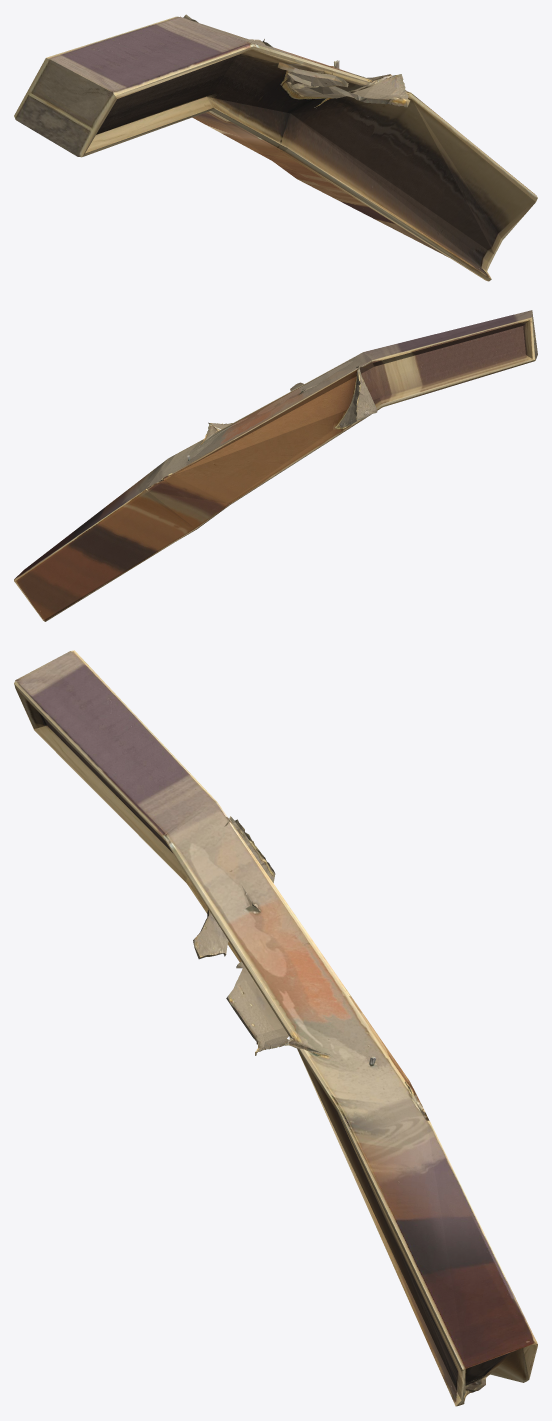
The model's file is rusted_beam.glb.
3 views of the same model, one above another, from view 1: azimuth 30°, elevation 25°; view 2: azimuth 150°, elevation 25°; view 3: azimuth 270°, elevation 25° (orthographic). The views are drawn at different scales.
Visible parts, largest first — view 1: tripo_node_352454fe-ab65-4cf8-af3b-0d2cd6c91ce2; view 2: tripo_node_352454fe-ab65-4cf8-af3b-0d2cd6c91ce2; view 3: tripo_node_352454fe-ab65-4cf8-af3b-0d2cd6c91ce2.
Part boxes in pixels (<box>): tripo_node_352454fe-ab65-4cf8-af3b-0d2cd6c91ce2: <box>14,14,537,281</box>; tripo_node_352454fe-ab65-4cf8-af3b-0d2cd6c91ce2: <box>14,310,537,621</box>; tripo_node_352454fe-ab65-4cf8-af3b-0d2cd6c91ce2: <box>14,650,537,1406</box>.
Bounding box in the file's own units: 0.998 × 0.709 × 0.709.
1 material, 1 textured.
